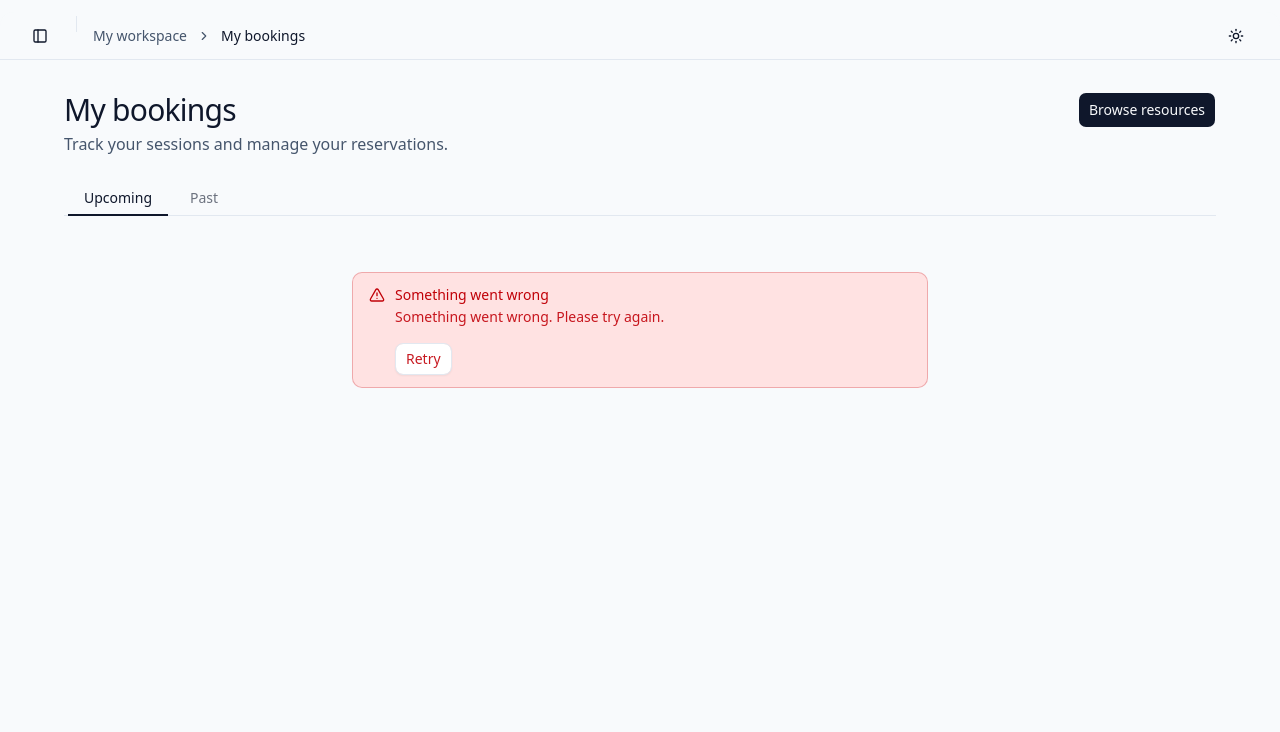
it: BookingsPage › shows the error state and recovers on Retry
Expected: the message shows "Something went wrong. Please try again.", 395,307 -> 664,326
Click the button "Retry": [423, 359] box 395,343 -> 452,375
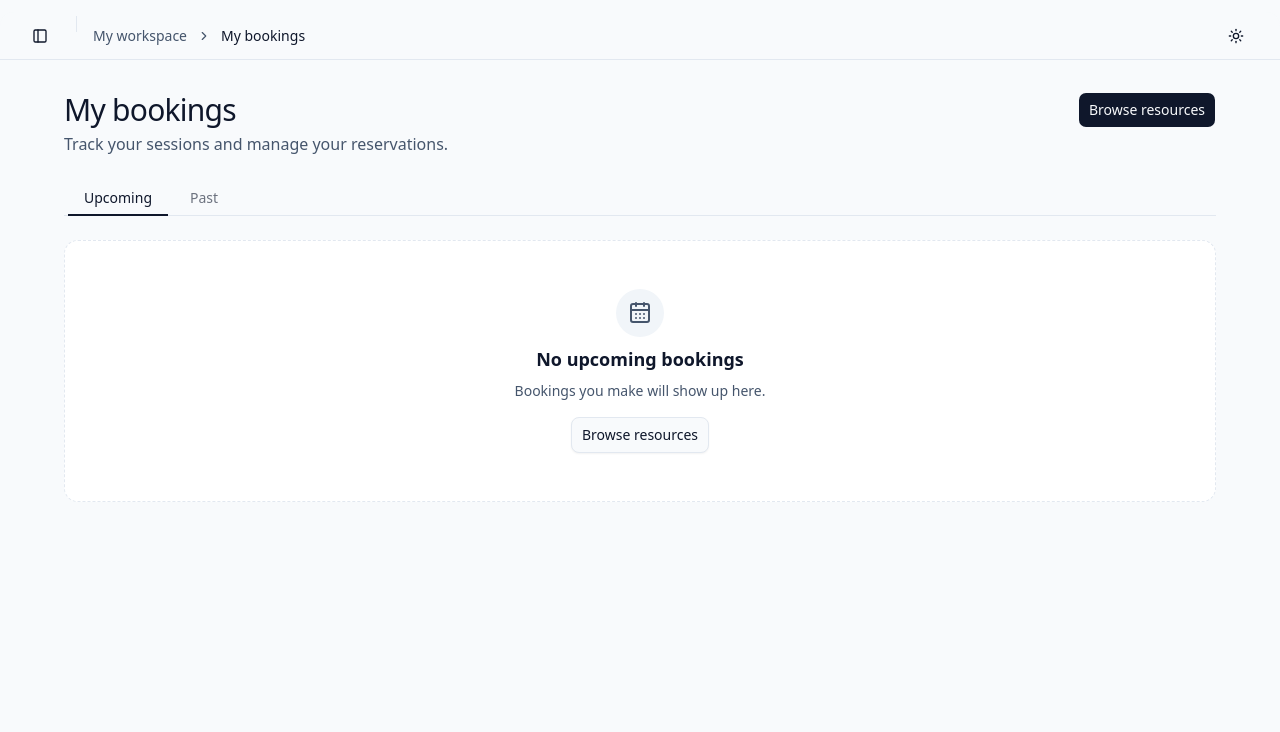
Expected: the text "No upcoming bookings" is shown, 536,345 -> 744,373
